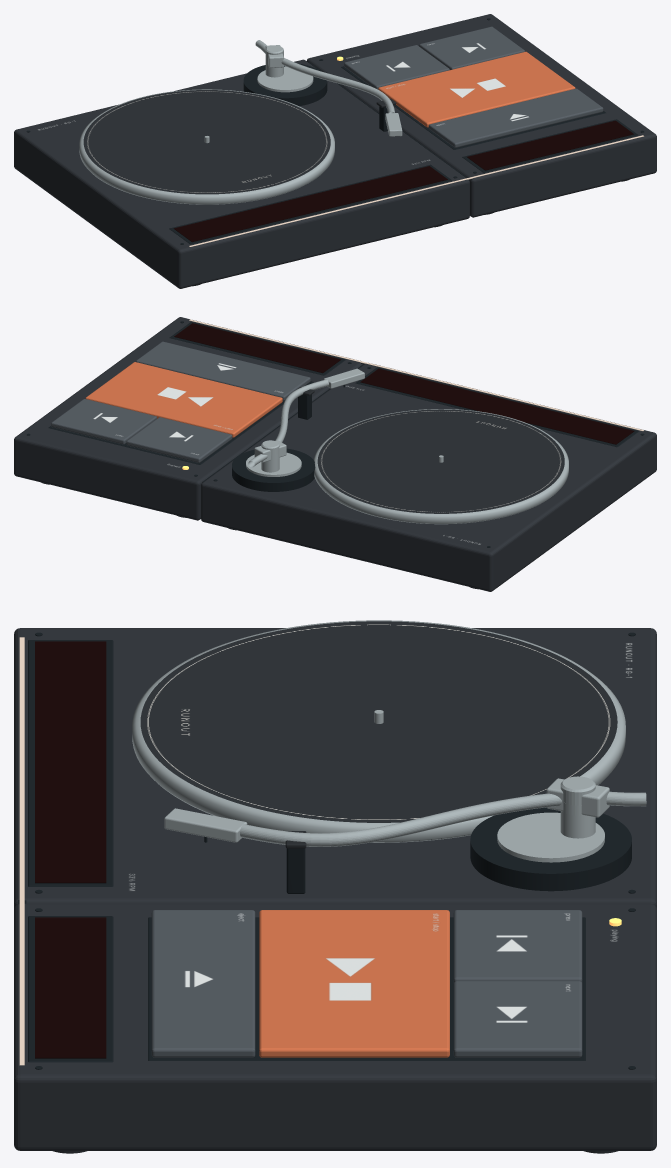
The model's file is turntable_dark.glb.
The picture shows the model from 3 angles, top to bottom: view 1: azimuth 30°, elevation 25°; view 2: azimuth 150°, elevation 25°; view 3: azimuth 270°, elevation 25°; orthographic projection. The views are drawn at different scales.
Visible parts, largest first — view 1: Chassis_Main, Turntable_Platter, Screen_Glass, Key_StartStop, Key_Eject, Screen_Display, Chassis_Trim, Tonearm_Base, Screen_Time, Key_Prev, Key_Next, Tonearm_Arm (+1 smaller); view 2: Chassis_Main, Turntable_Platter, Screen_Glass, Key_StartStop, Screen_Display, Key_Eject, Tonearm_Base, Chassis_Trim, Key_Prev, Key_Next, Screen_Time, Tonearm_Arm (+1 smaller); view 3: Chassis_Main, Turntable_Platter, Key_StartStop, Screen_Glass, Screen_Display, Key_Eject, Tonearm_Base, Chassis_Trim, Key_Next, Screen_Time, Key_Prev, Tonearm_Arm (+1 smaller).
Part boxes in pixels (x1,y1,x2,y2): Chassis_Main: (14, 14, 656, 288); Turntable_Platter: (79, 89, 334, 204); Screen_Glass: (174, 120, 633, 241); Key_StartStop: (378, 51, 575, 127); Key_Eject: (428, 88, 603, 147); Screen_Display: (175, 167, 447, 242); Chassis_Trim: (26, 18, 644, 244); Tonearm_Base: (243, 57, 396, 131); Screen_Time: (468, 121, 633, 170); Key_Prev: (344, 45, 449, 89); Key_Next: (419, 26, 524, 69); Tonearm_Arm: (255, 40, 402, 136); Chassis_Main: (14, 317, 656, 591); Turntable_Platter: (313, 409, 568, 524); Screen_Glass: (174, 323, 634, 444); Key_StartStop: (85, 362, 282, 437); Screen_Display: (360, 369, 633, 444); Key_Eject: (136, 341, 310, 400); Tonearm_Base: (232, 387, 315, 491); Chassis_Trim: (26, 321, 644, 547); Key_Prev: (126, 417, 232, 462); Key_Next: (51, 399, 156, 444); Screen_Time: (175, 324, 340, 373); Tonearm_Arm: (248, 368, 364, 467); Chassis_Main: (14, 628, 656, 1150); Turntable_Platter: (132, 620, 625, 842); Key_StartStop: (259, 910, 449, 1057); Screen_Glass: (35, 641, 106, 1058); Screen_Display: (35, 642, 105, 883); Key_Eject: (151, 910, 255, 1057); Tonearm_Base: (285, 802, 631, 893); Chassis_Trim: (18, 632, 635, 1069); Key_Next: (453, 981, 582, 1057); Screen_Time: (35, 919, 105, 1058); Key_Prev: (453, 910, 582, 983); Tonearm_Arm: (164, 776, 646, 846).
Size of what is drawn, in the model's own units: 5.14 by 0.843 by 3.1.
Materials: 12 (3 with a texture image).
